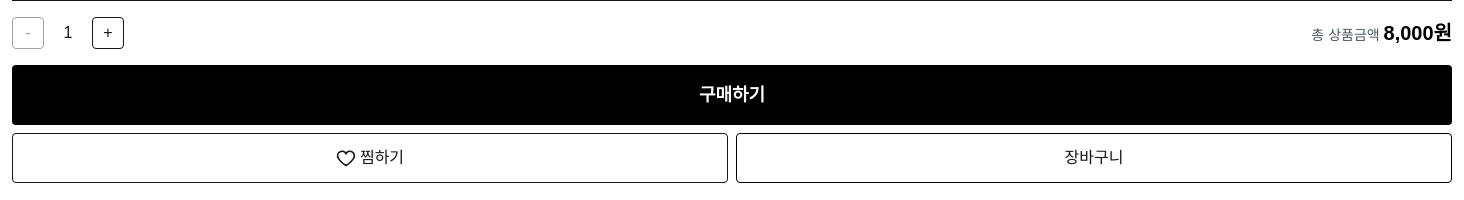
Test: AddToCartForm 수량과 합계 › 성공: 수량을 바꾸면 총 상품금액이 가격 x 수량으로 바뀐다
Expected: the text "8,000원" is shown, [1384, 22, 1452, 44]
Click the button named "수량 증가". click: click(108, 33)
box: [92, 17, 124, 49]
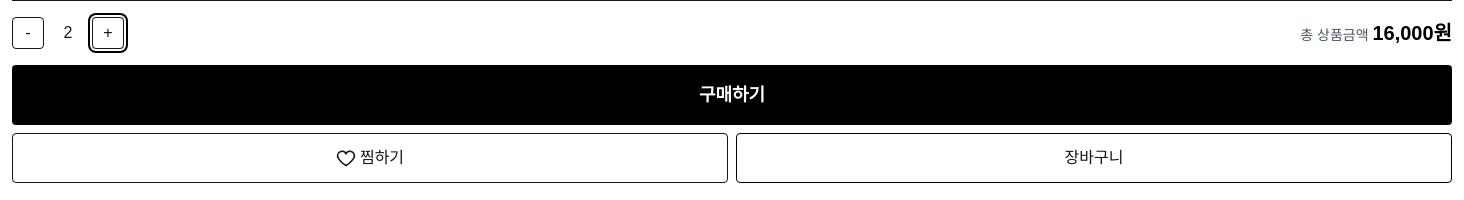
Click the button named "수량 증가". click: click(108, 33)
box: [92, 17, 124, 49]
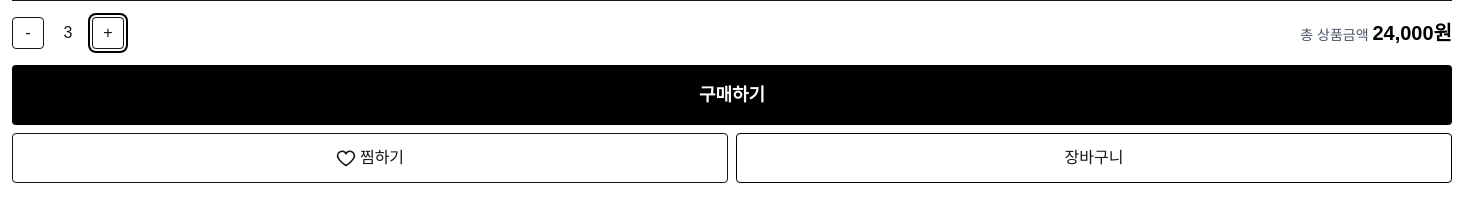
Now the text "24,000원" is shown, box [1372, 22, 1452, 44]
